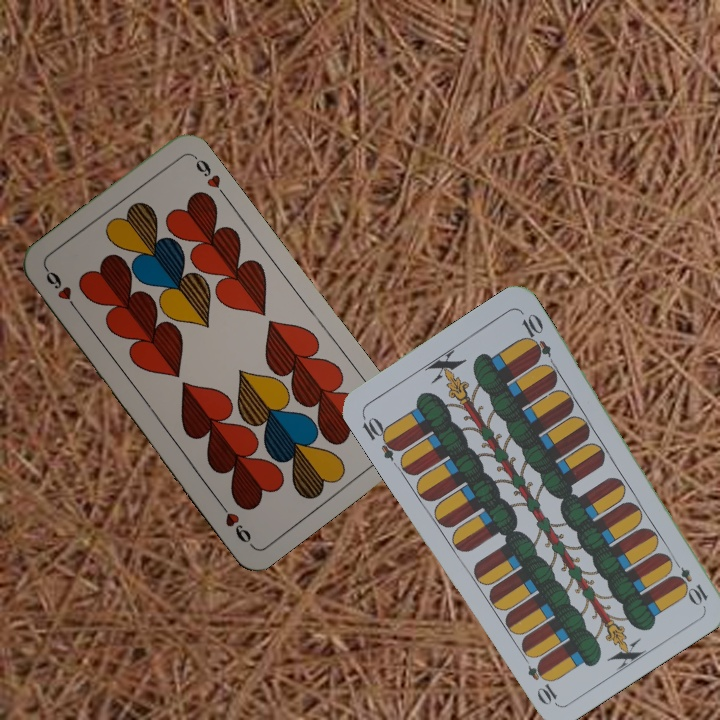E10: (358, 410, 404, 463), (667, 554, 711, 608)
H9: (41, 264, 82, 315)
